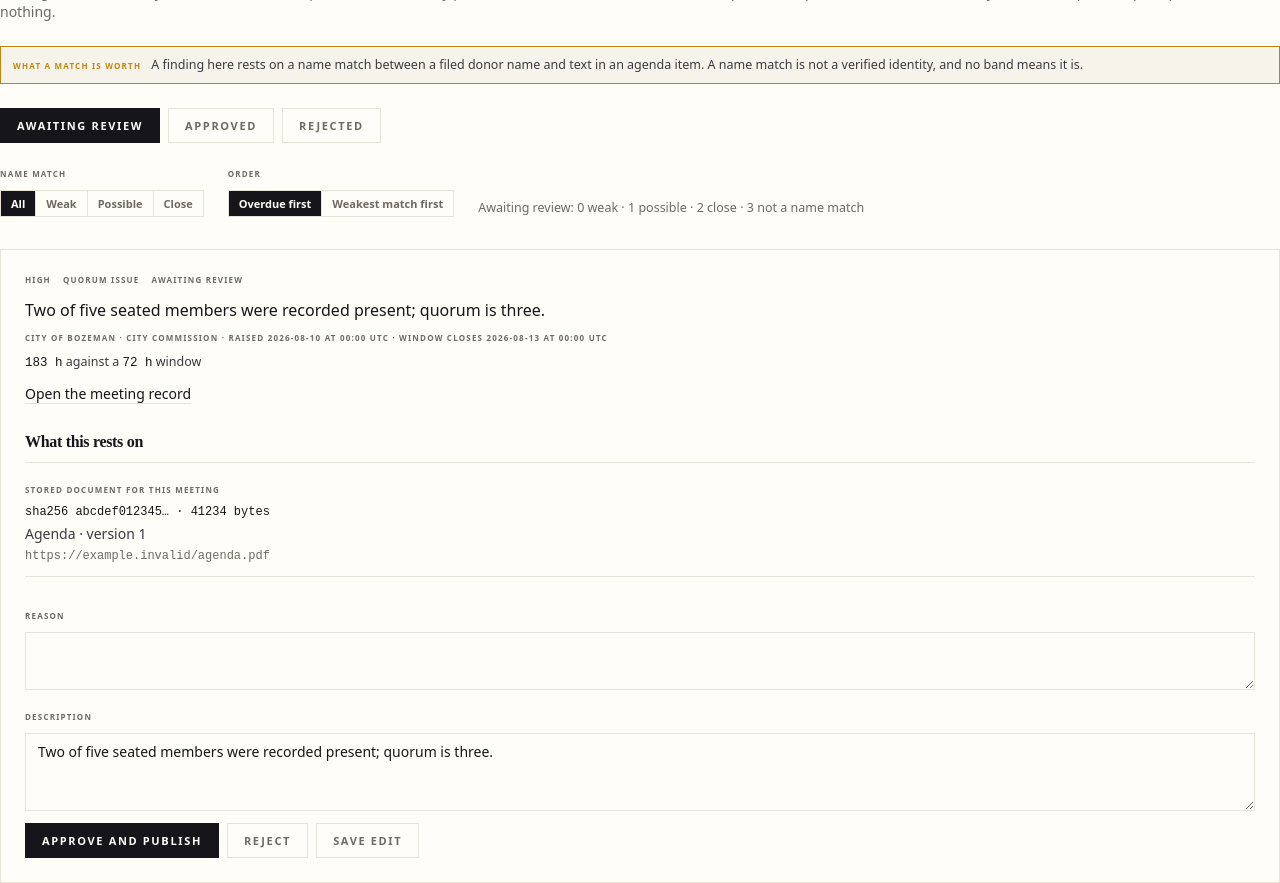
Test: AdminReviewPage › refuses to send a decision with no stated reason
(page scrolled)
Click the button "Approve and publish".
click(122, 840)  # box [25,823,219,858]
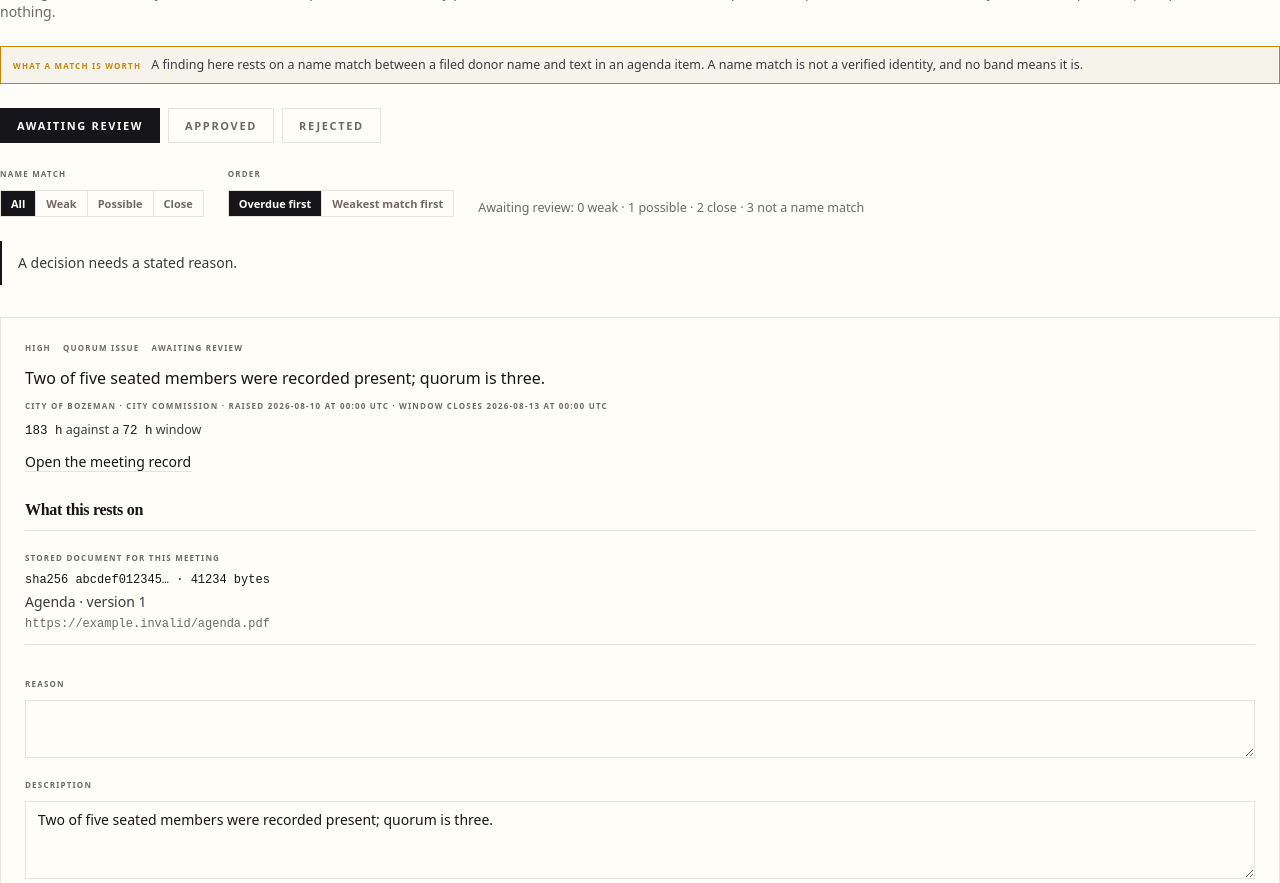
Expected: the message reads "A decision needs a stated reason.", [18,253,237,272]
